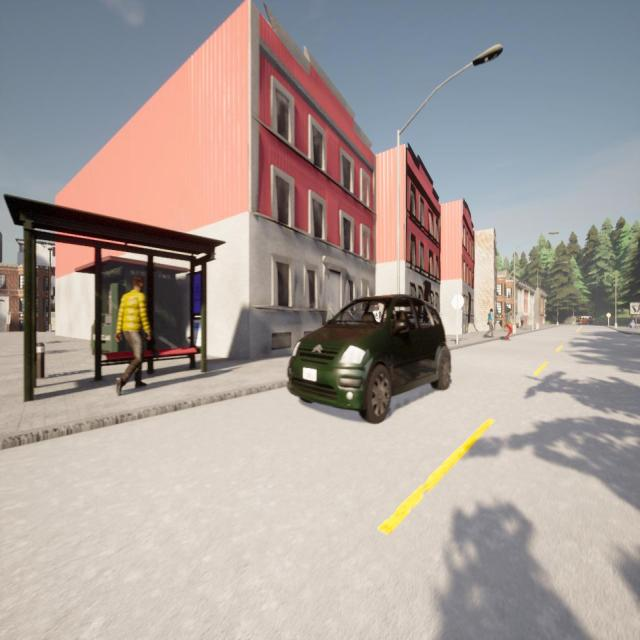Pedestrian: (113, 272, 151, 402), (484, 306, 495, 342), (505, 307, 513, 343), (520, 312, 525, 329), (630, 318, 636, 332)
Traffic_Signs: (452, 294, 465, 308), (606, 312, 612, 318)
Vehicle: (288, 295, 450, 423), (576, 314, 594, 327)
